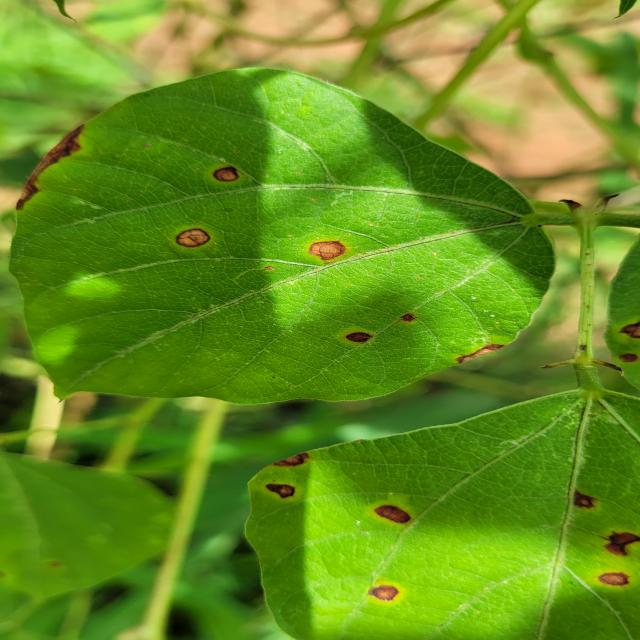Dolicos bean_cercospora leaf spot: (6, 63, 556, 404), (235, 383, 640, 640)
